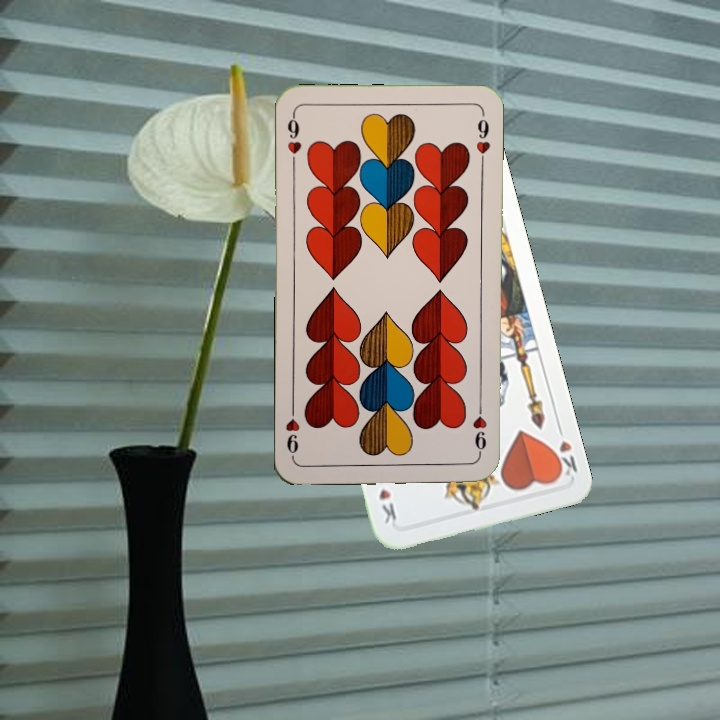H9: (283, 109, 304, 168), (468, 400, 489, 459)
HK: (547, 420, 580, 481)
